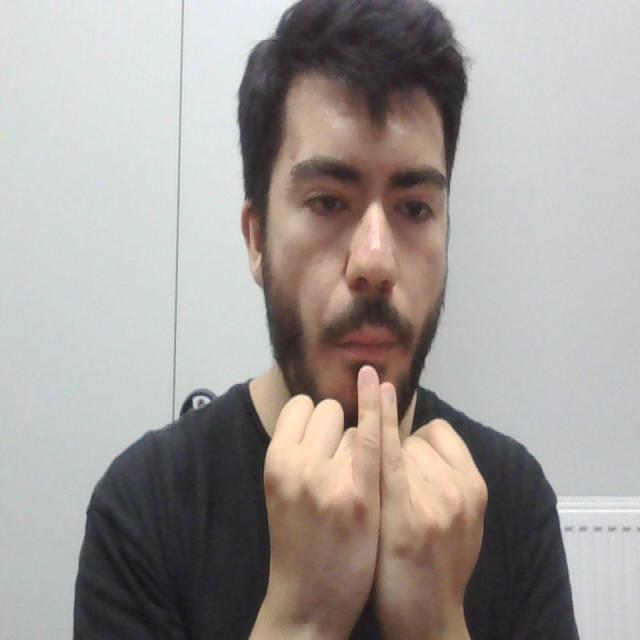Kardes: (247, 352, 492, 640)
